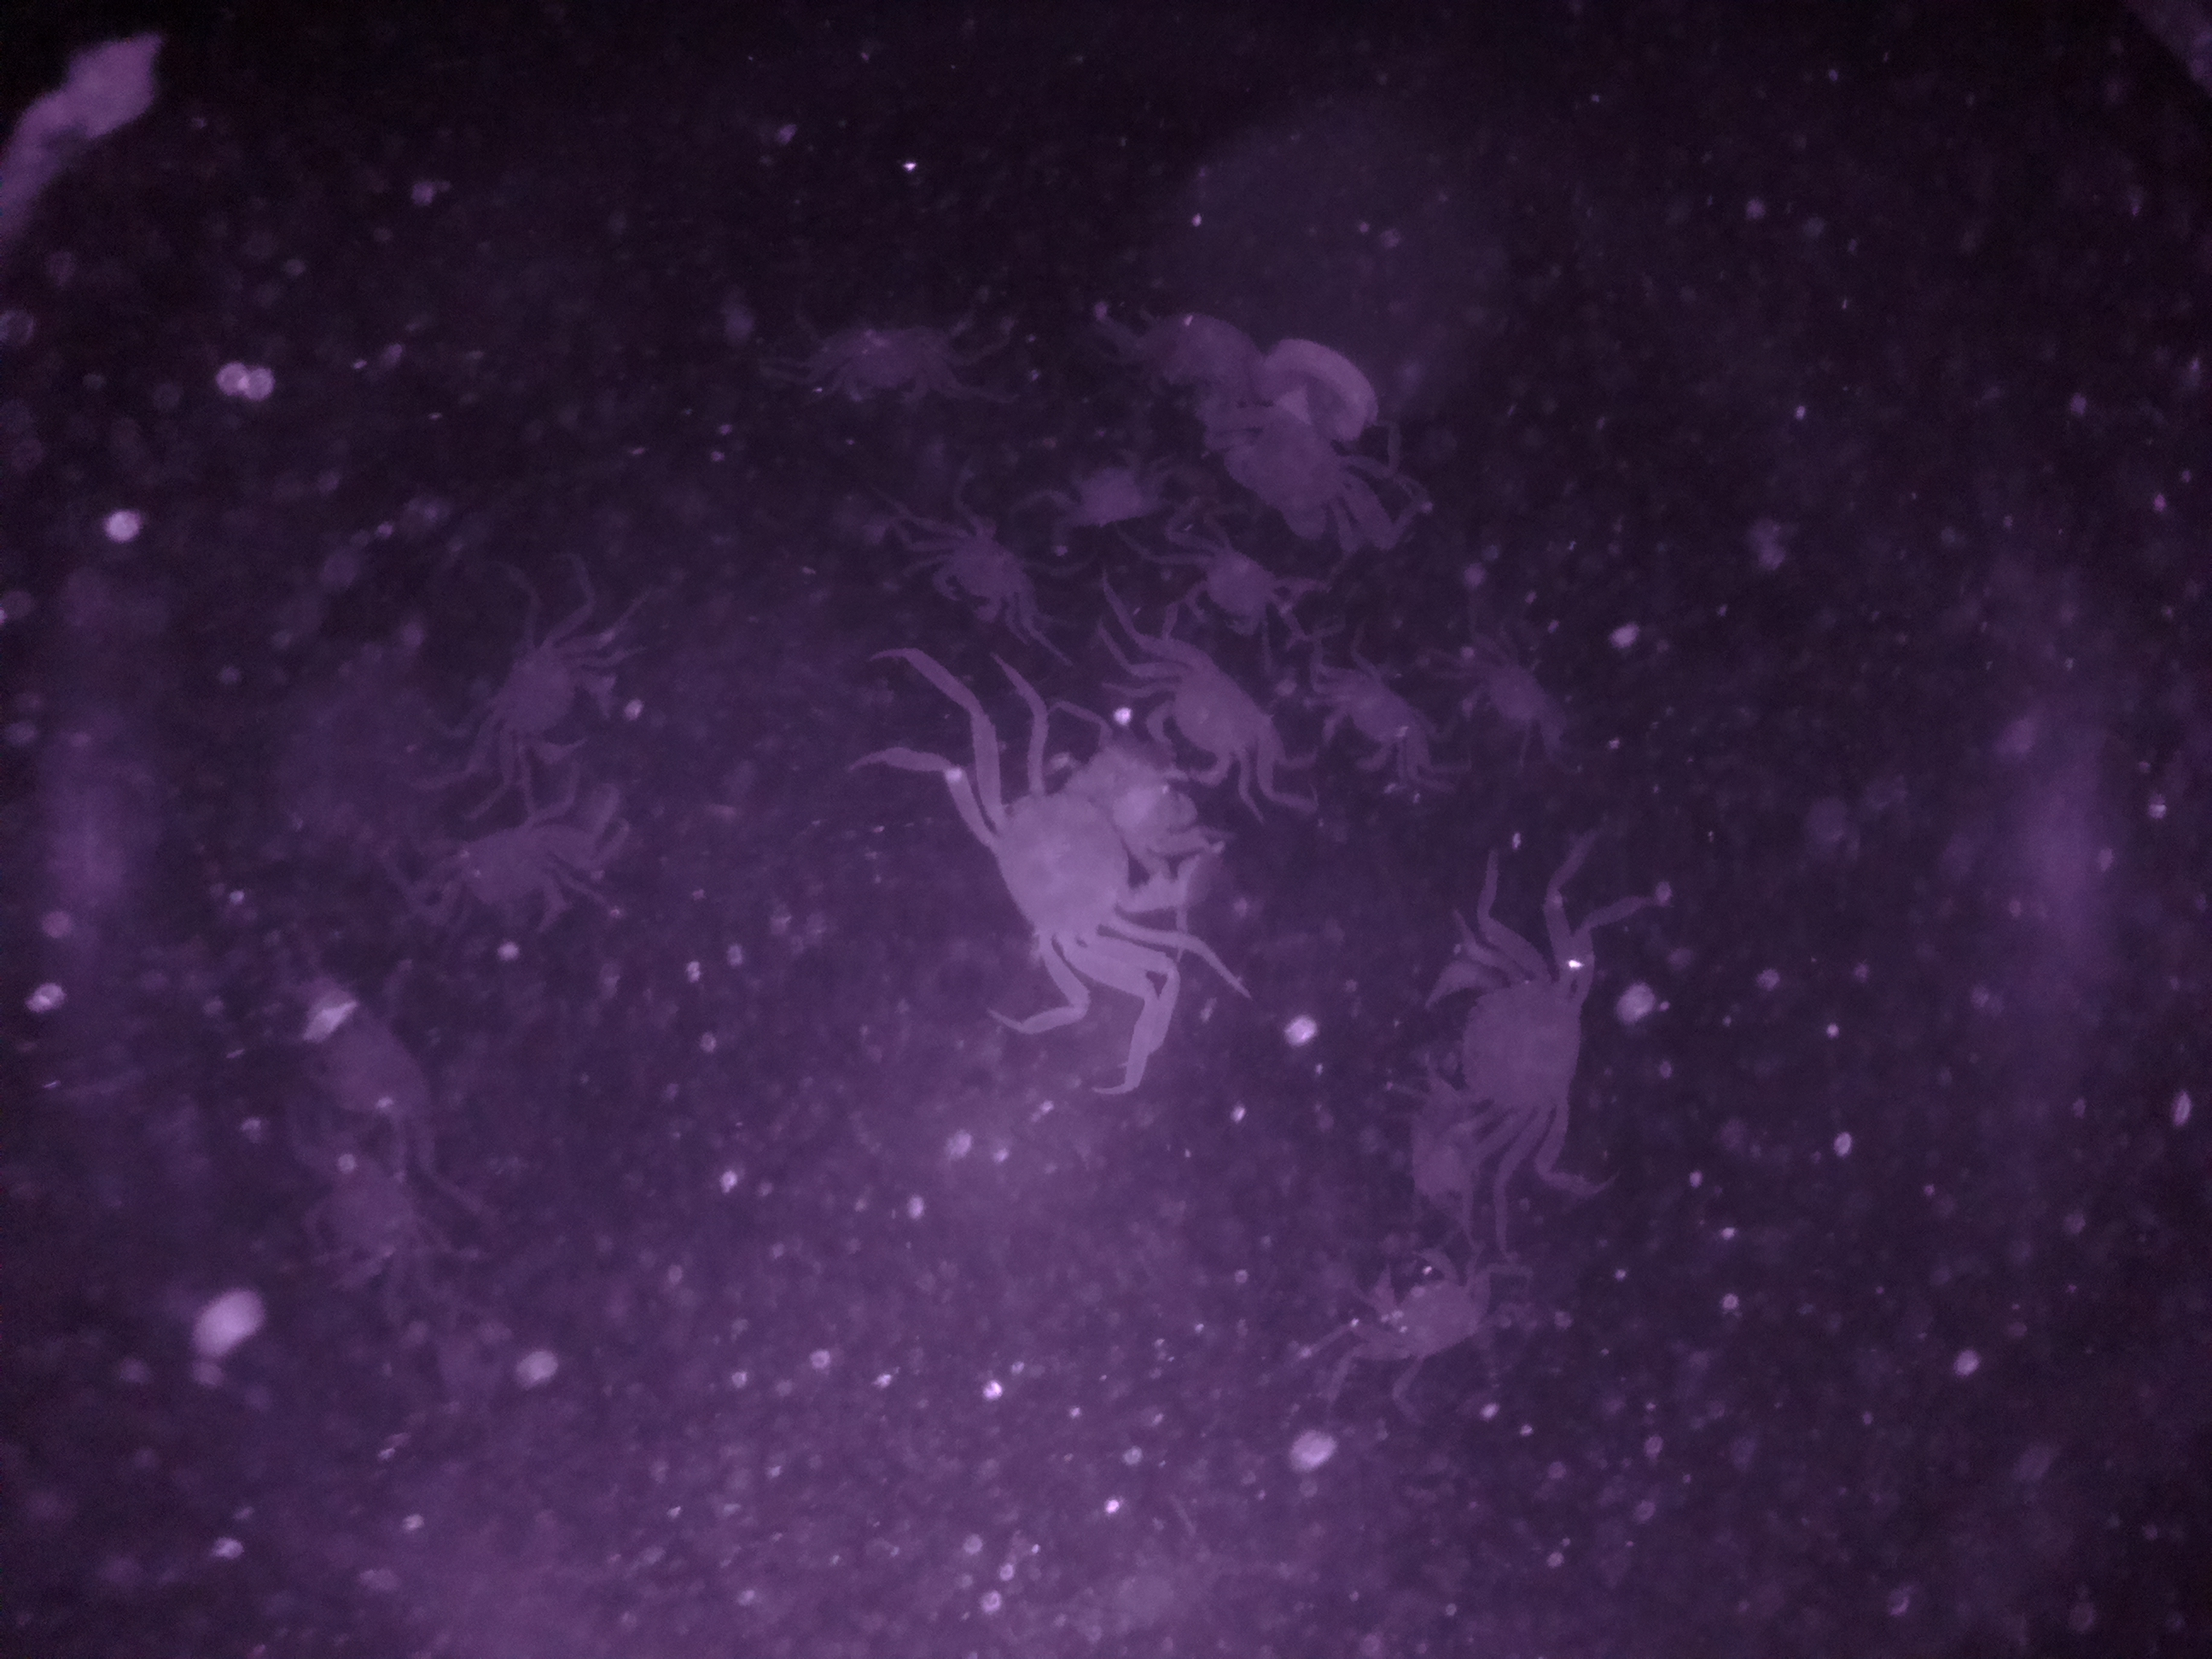Crab: (1399, 917, 1606, 1157), (448, 608, 648, 796), (1120, 638, 1287, 803), (1334, 1229, 1507, 1384), (913, 486, 1054, 647), (1301, 652, 1433, 798), (1179, 507, 1308, 655)
